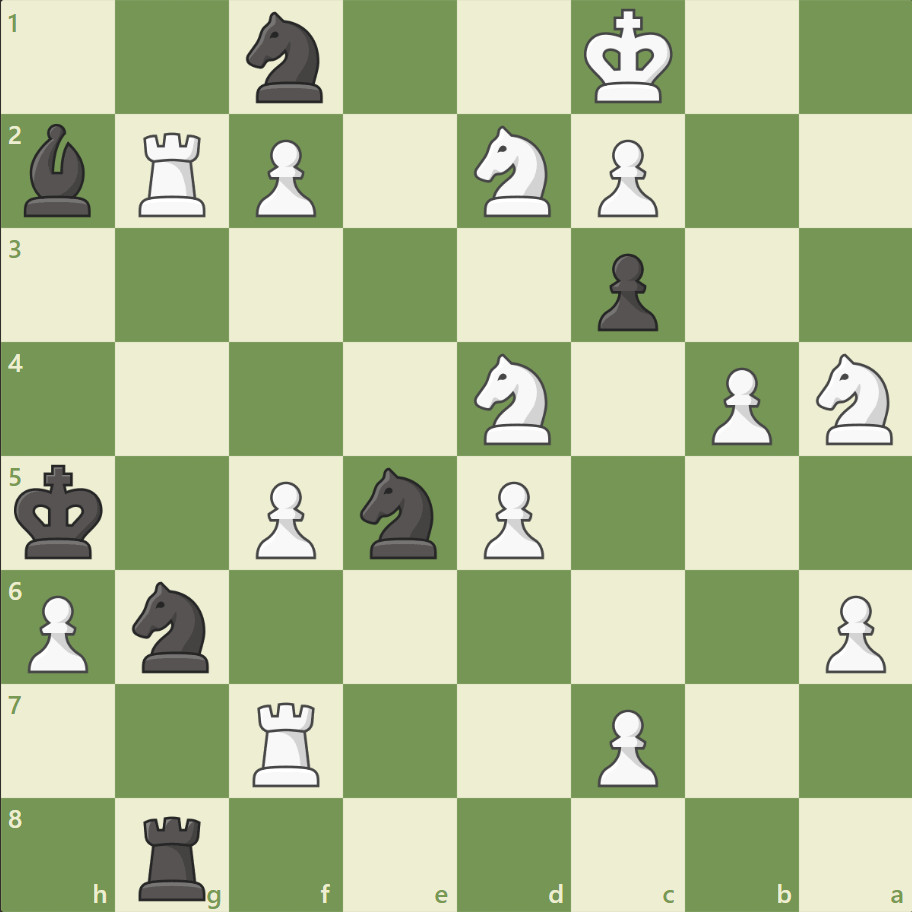K: (579, 4, 679, 112)
N: (806, 348, 903, 450), (465, 348, 562, 450), (465, 121, 562, 223)
P: (20, 586, 95, 677), (474, 473, 549, 564), (247, 473, 322, 564), (701, 359, 776, 450), (247, 132, 322, 223), (588, 700, 662, 791), (815, 586, 889, 677), (588, 132, 662, 223)
R: (246, 693, 329, 790), (133, 125, 215, 222)
b: (17, 120, 101, 222)
k: (11, 458, 111, 566)
n: (351, 461, 449, 564), (124, 575, 222, 677), (238, 7, 335, 110)
p: (588, 246, 662, 337)
r: (133, 806, 215, 904)
